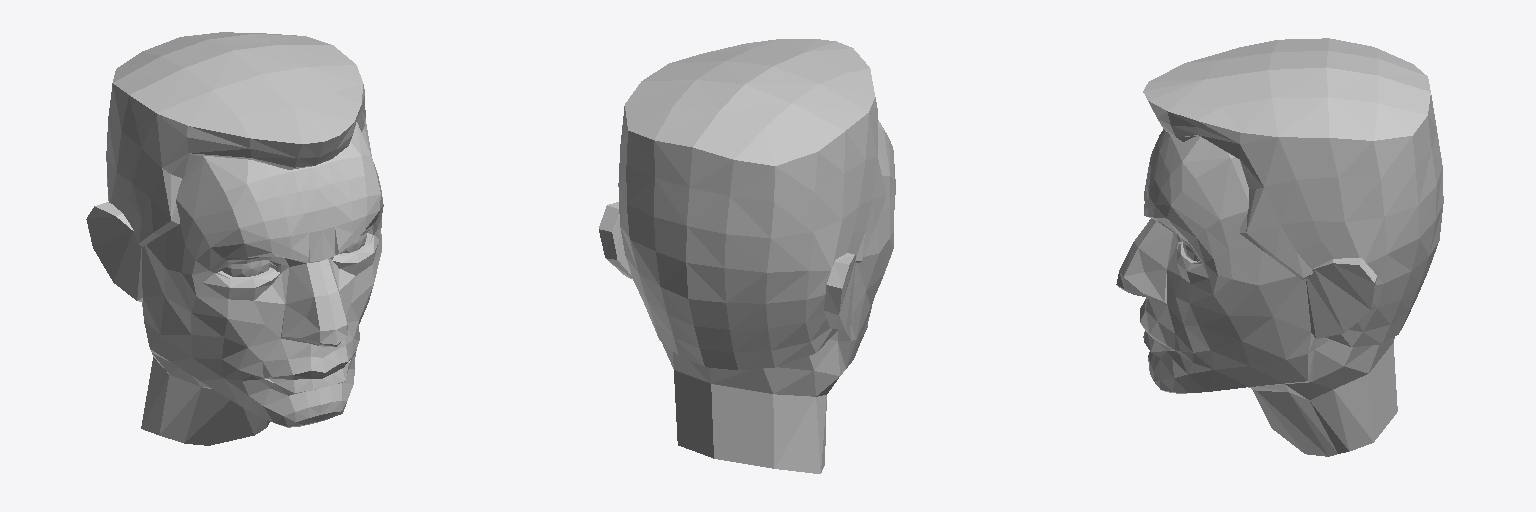
The model's file is Head.obj.
The picture shows the model from 3 angles: view 1: azimuth 30°, elevation 25°; view 2: azimuth 150°, elevation 25°; view 3: azimuth 270°, elevation 25°; orthographic projection.
Visible parts, largest first — view 1: head; view 2: head; view 3: head.
Part boxes in pixels (left/top/right/bottom): head: left=86, top=32, right=383, bottom=445; head: left=599, top=39, right=895, bottom=473; head: left=1116, top=38, right=1443, bottom=456.
Bounding box in the file's own units: 7.34 × 10.83 × 8.52.